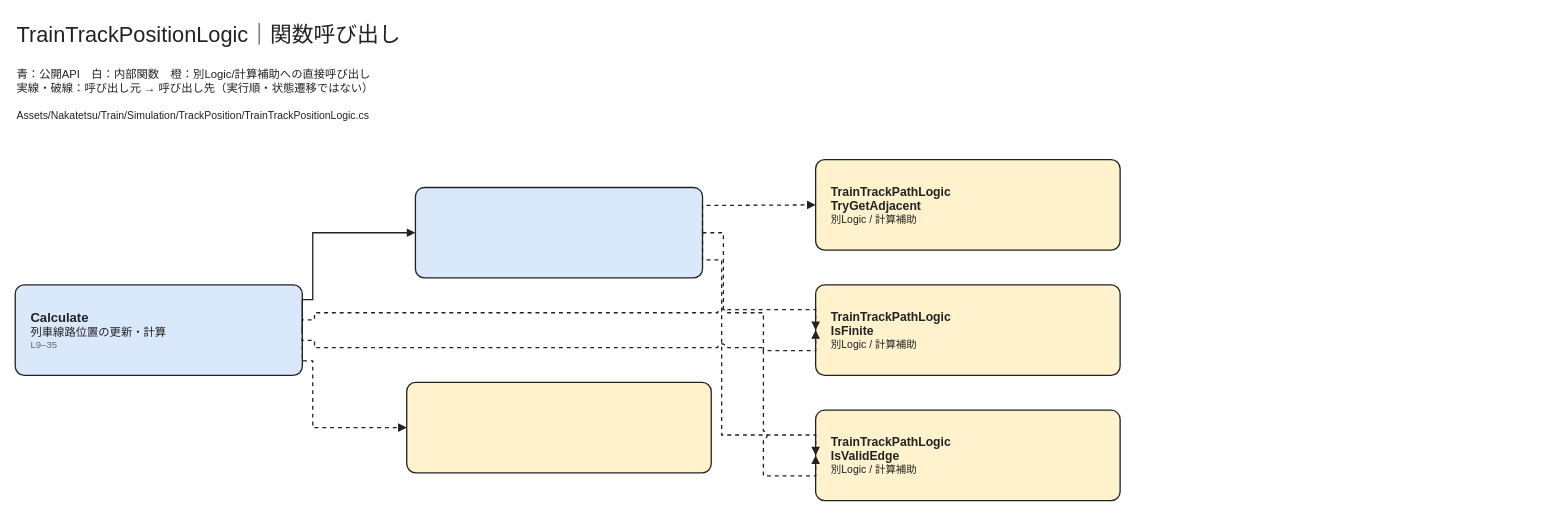
The diagram is 1553 pixels wide and 516 high, and some of its shapes have lost their labels. The centre of each missing label's shape, as x and y in pixels:
"Advance Edge If Needed 越境時にEdge・距離・向きを更新 L38–76" goes at point 558,232.
"Train Track Sampling Logic Refresh Output 別Logic / 計算補助" goes at point 558,427.
